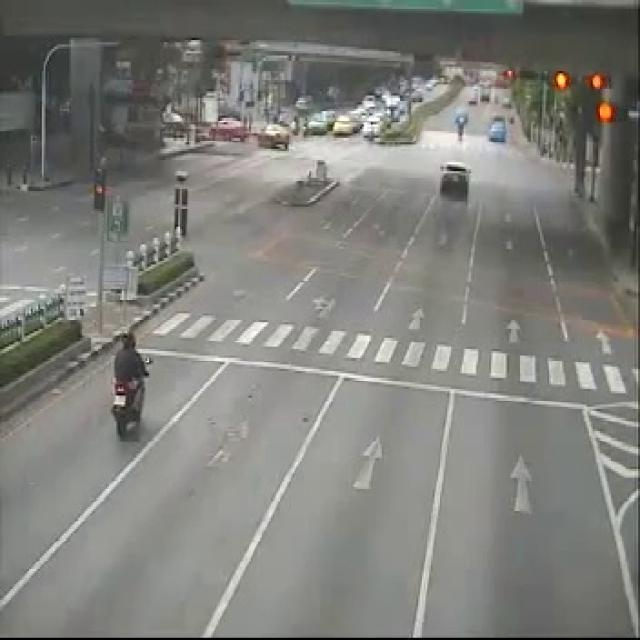motobike: (109, 330, 149, 434)
stop_line: (133, 346, 586, 407)
